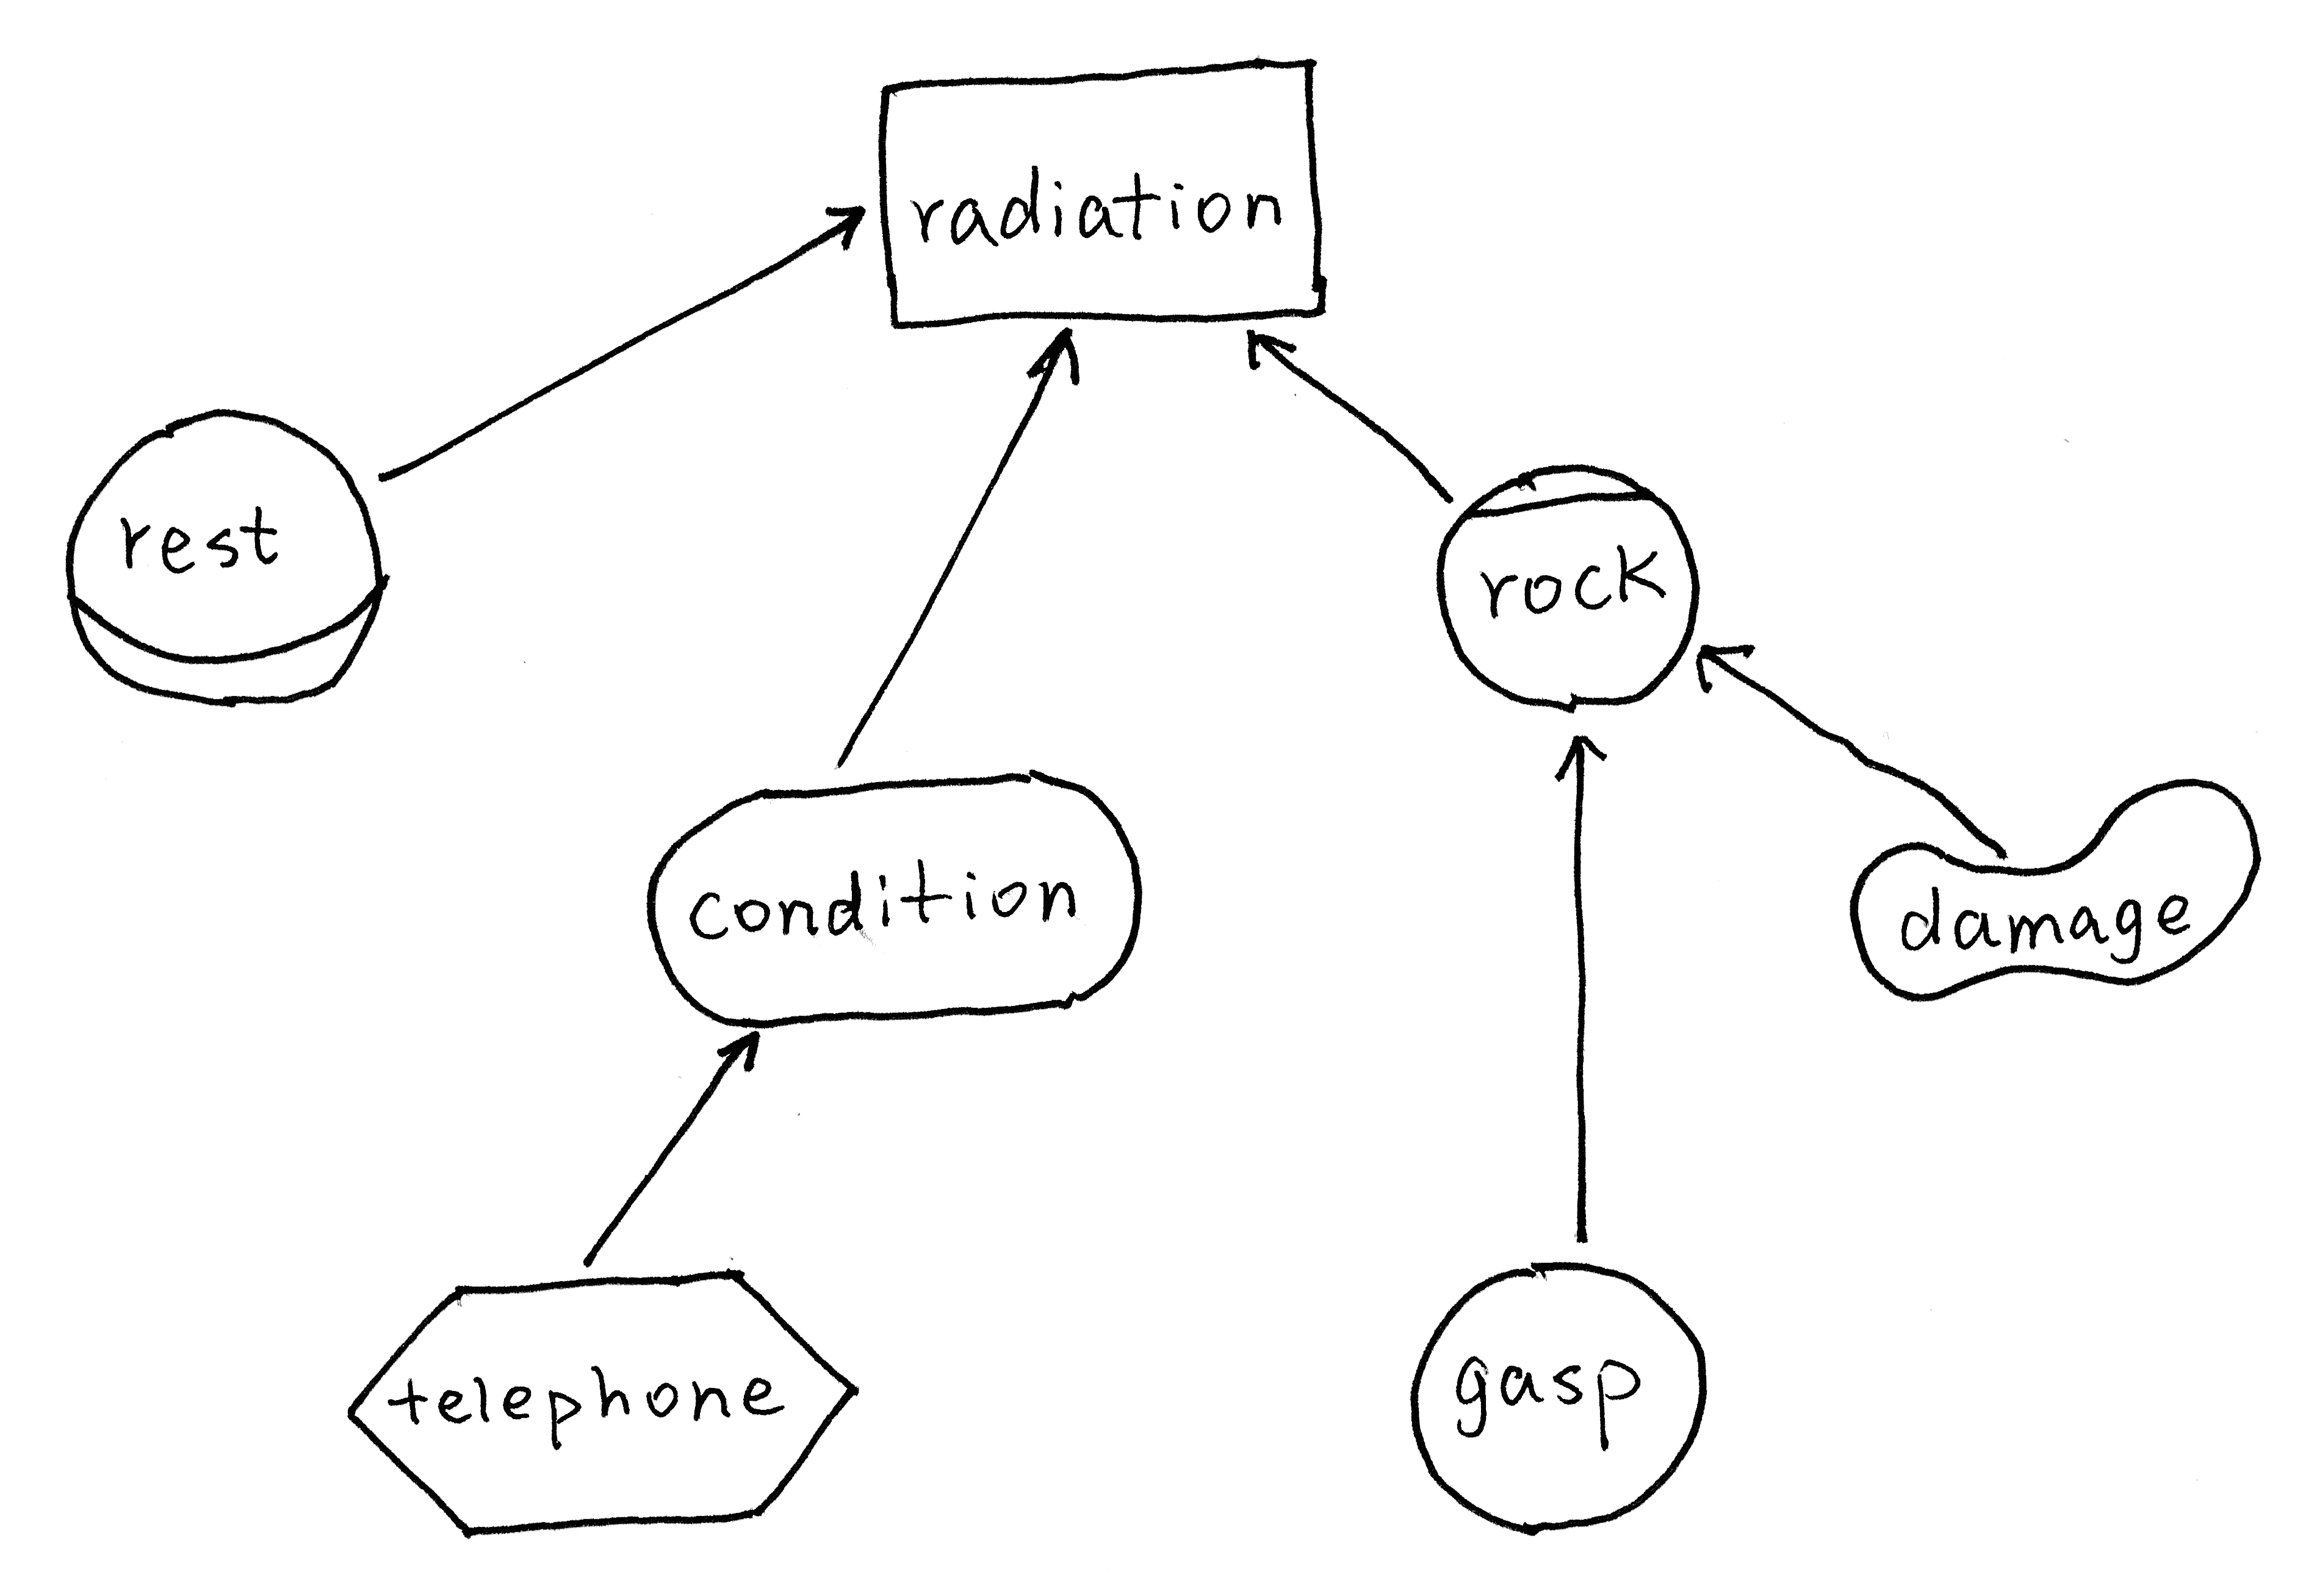actor: (1391, 1244, 1723, 1549)
agent: (1423, 439, 1723, 728)
arrow: (1011, 309, 1113, 408), (1539, 712, 1619, 809), (1681, 629, 1771, 708), (710, 1012, 793, 1086), (1233, 309, 1305, 394), (811, 181, 874, 265)
goal: (626, 756, 1162, 1049)
quality: (1825, 765, 2272, 1012)
resource: (860, 35, 1361, 350)
role: (47, 390, 410, 729)
task: (322, 1255, 872, 1550)
